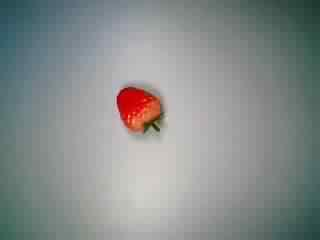strawberry: (104, 78, 175, 138)
